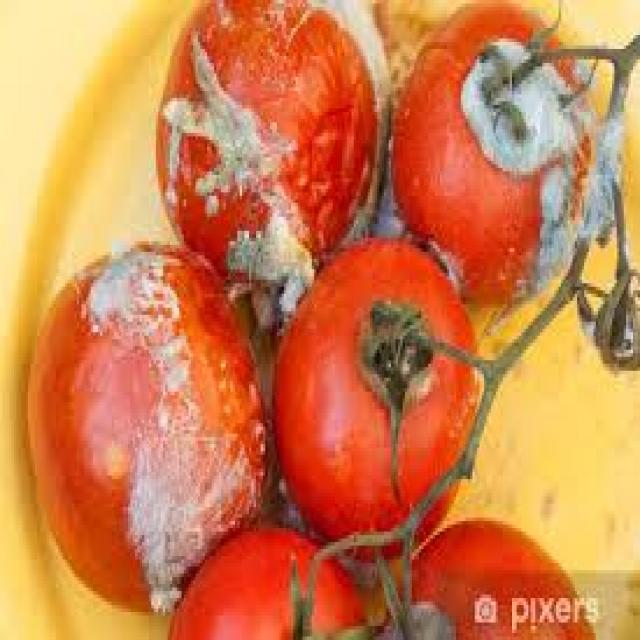organic waste: (26, 241, 265, 619), (151, 0, 388, 304), (270, 231, 475, 556), (388, 0, 594, 301), (386, 511, 591, 636), (163, 524, 365, 636)
